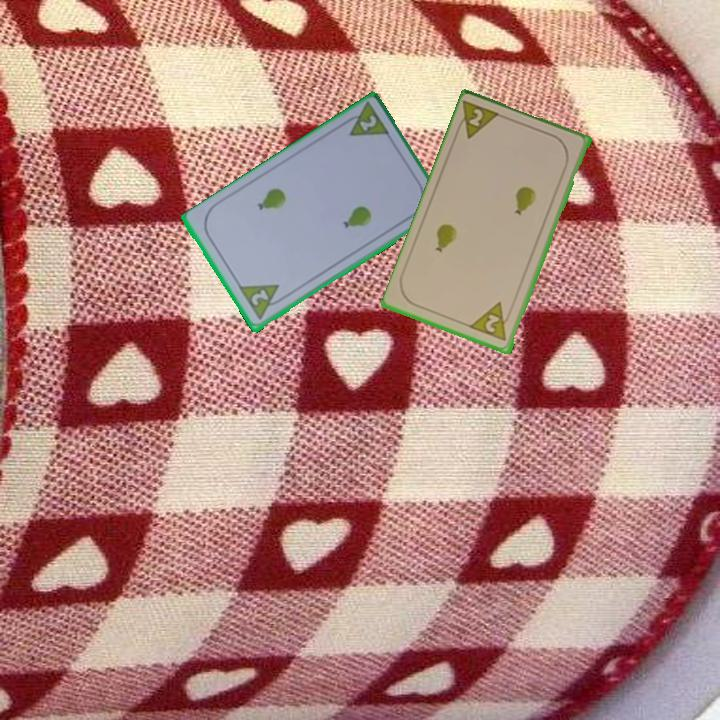2p: (452, 98, 505, 143), (338, 99, 393, 140), (468, 299, 515, 344), (247, 286, 271, 309)
